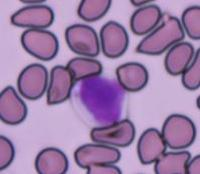M: (69, 74, 129, 128)
